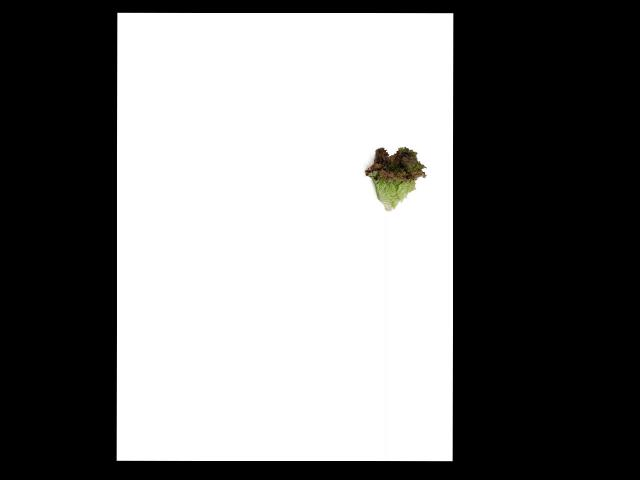lettuce: (359, 138, 429, 212)
